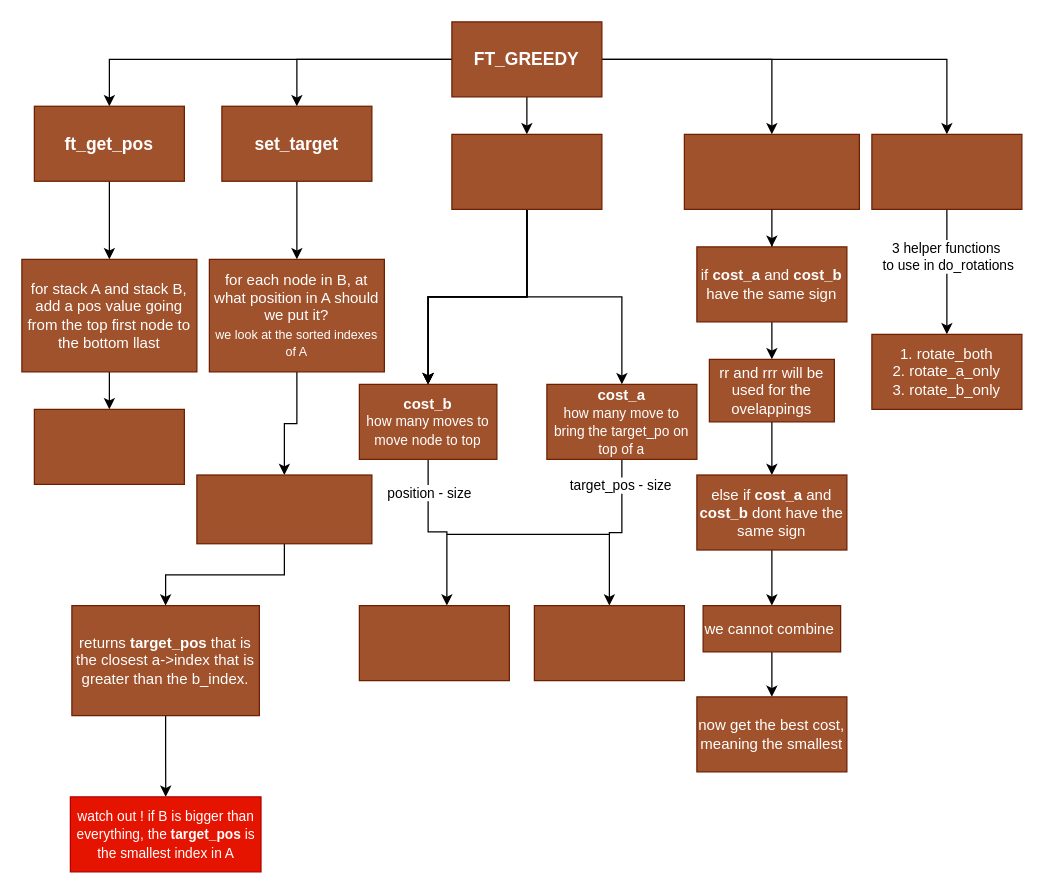
Image size: 1044x894. Some labels were removed from this diagram. Here are the shapes that lost their labels. From the top down, the centre of each, then its label:
At (x=526, y=171): "set_costs".
At (x=771, y=171): "get_cheapest_node".
At (x=946, y=171): "do_rotations".
At (x=108, y=446): "we now know how far a node is from its top".
At (x=284, y=509): "find_target_pos_in_a".
At (x=433, y=642): "if pos <= size/2 rotate up positive cost".
At (x=608, y=642): "if pos >= size/2 rotate down negative cost".
